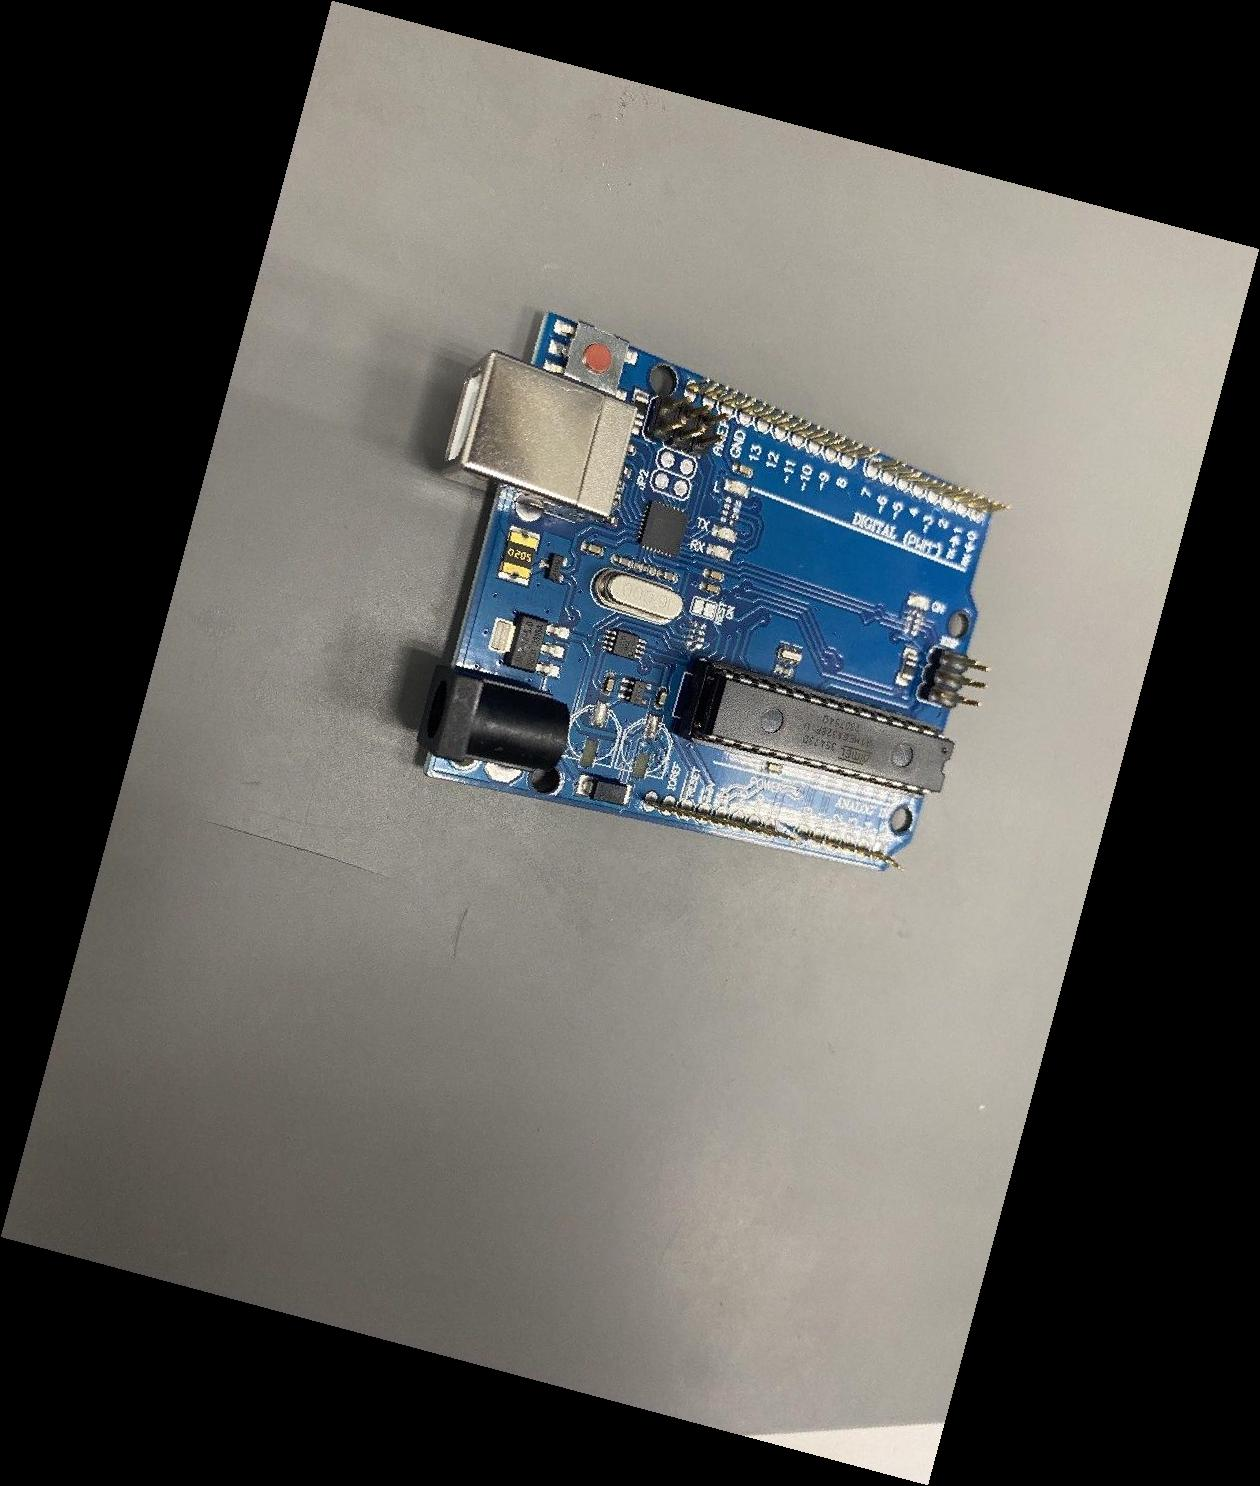ATmega328 chip: (674, 656, 954, 800)
Arduino board: (416, 311, 1011, 872)
USB: (437, 349, 637, 522)
